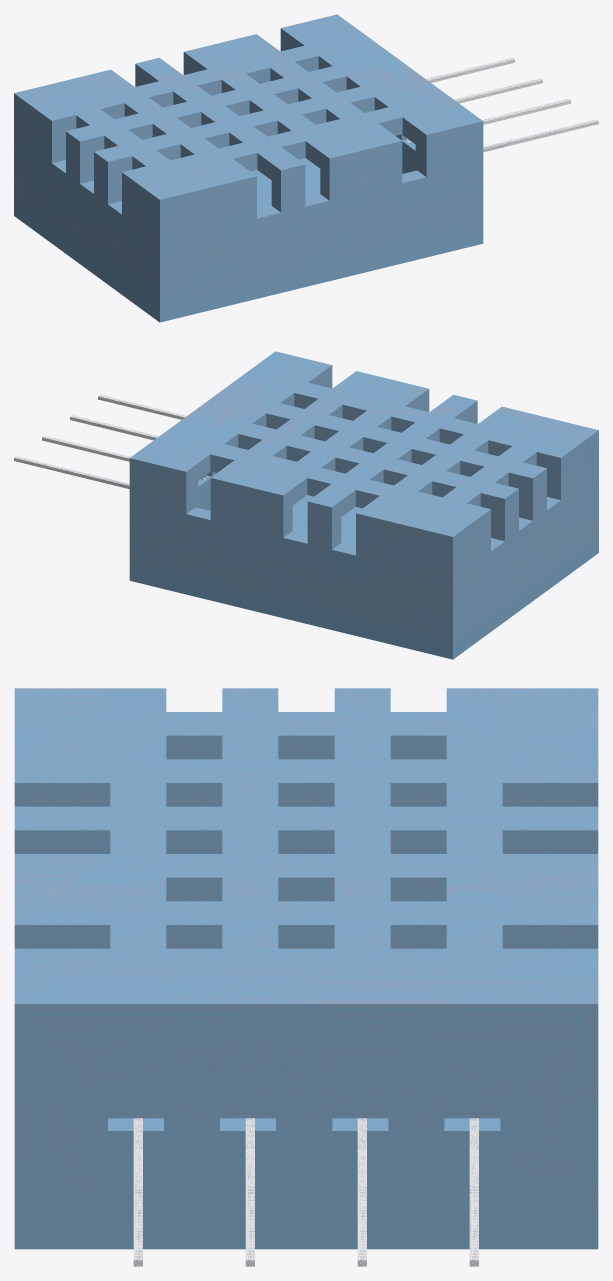
File: DHT11.dae
3 views of the same model, one above another, from view 1: azimuth 30°, elevation 25°; view 2: azimuth 150°, elevation 25°; view 3: azimuth 270°, elevation 25° (orthographic). The views are drawn at different scales.
Parts seen in each view (by area): view 1: group_0, group_1, group_2 (×4); view 2: group_0, group_1, group_2 (×4); view 3: group_0 (×16), group_1, group_2 (×4).
Part boxes in pixels (bbox=[...]): group_0: bbox=[14, 14, 483, 305]; group_1: bbox=[14, 139, 483, 322]; group_2 (×4): bbox=[407, 58, 598, 152]; group_0: bbox=[129, 351, 598, 642]; group_1: bbox=[129, 475, 598, 659]; group_2 (×4): bbox=[14, 394, 205, 488]; group_0 (×16): bbox=[14, 688, 598, 1215]; group_1: bbox=[14, 1118, 598, 1249]; group_2 (×4): bbox=[133, 1118, 478, 1266].
Bounding box in the file's own units: 9.13 × 4.92 × 2.3.
